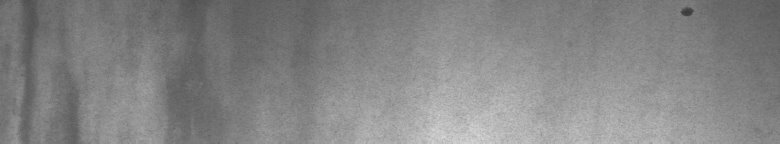fi: (676, 4, 697, 24)
